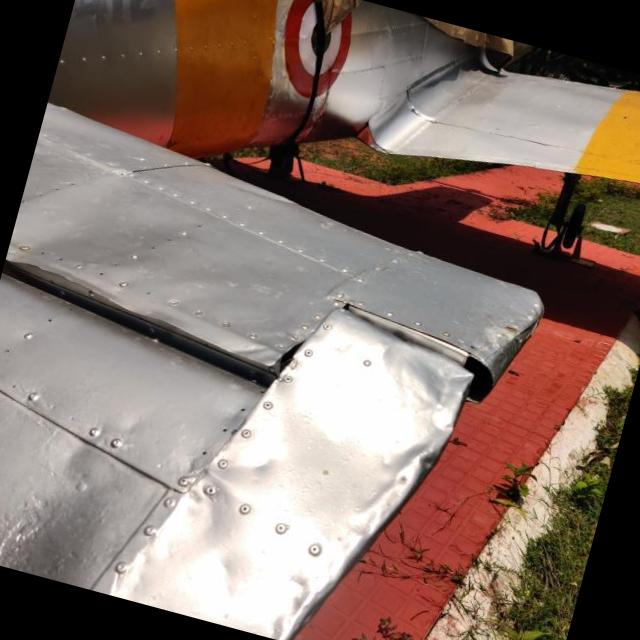Dent: (114, 410, 288, 624), (311, 404, 460, 549), (366, 329, 473, 446), (251, 552, 343, 640)
